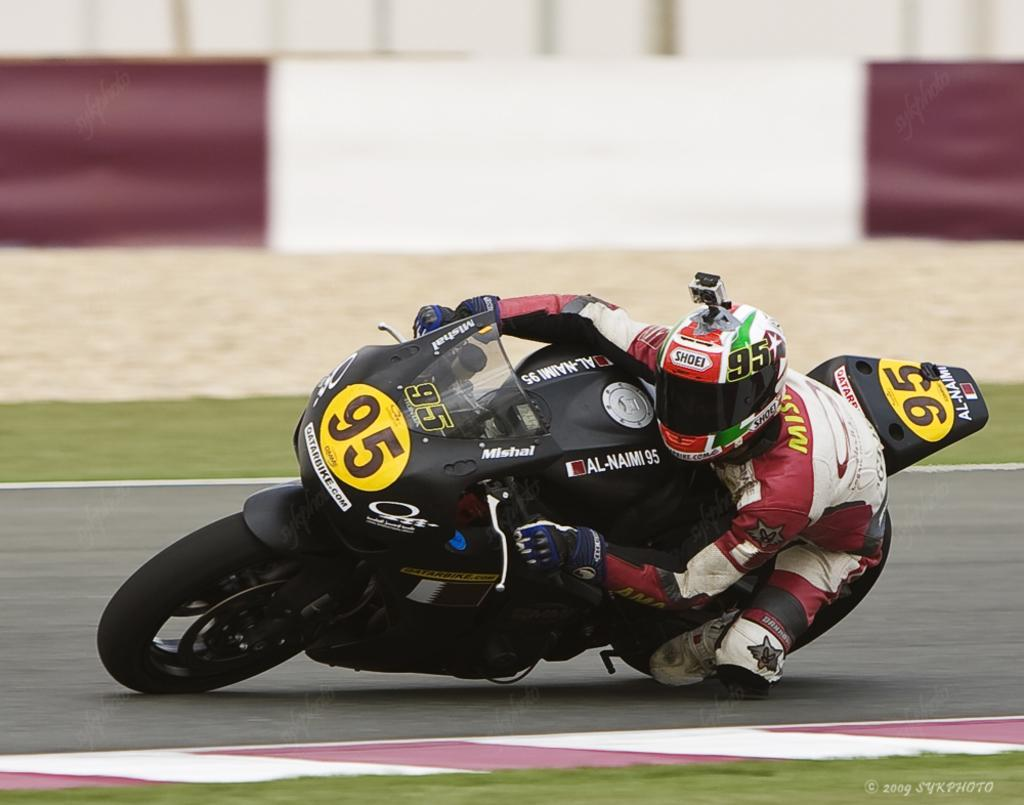helmet: (653, 299, 789, 467)
